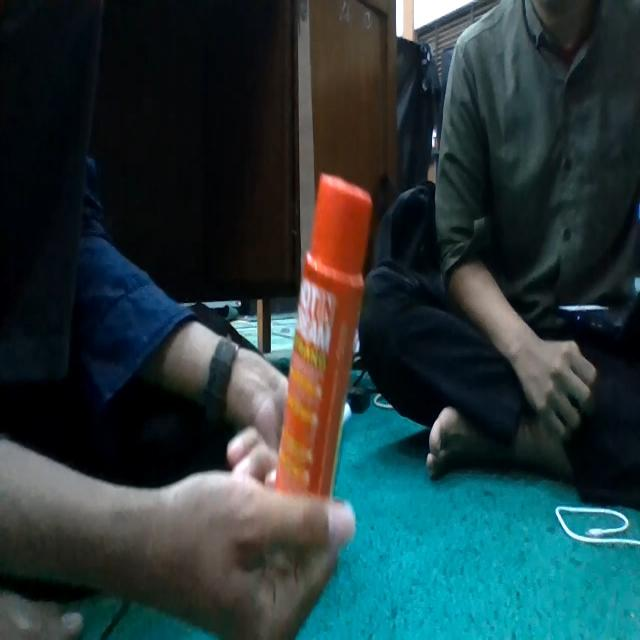Boncabe: (270, 174, 372, 496)
